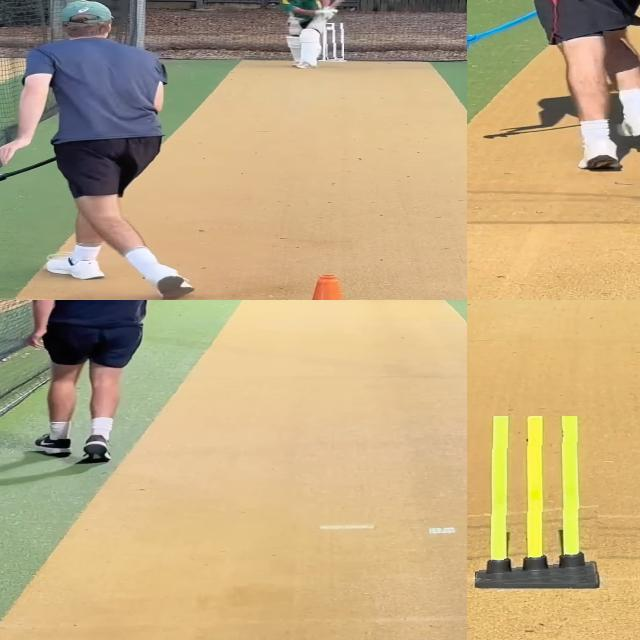Cricket ball: (325, 27, 334, 32)
Stumps: (475, 416, 600, 586), (324, 24, 344, 62)
